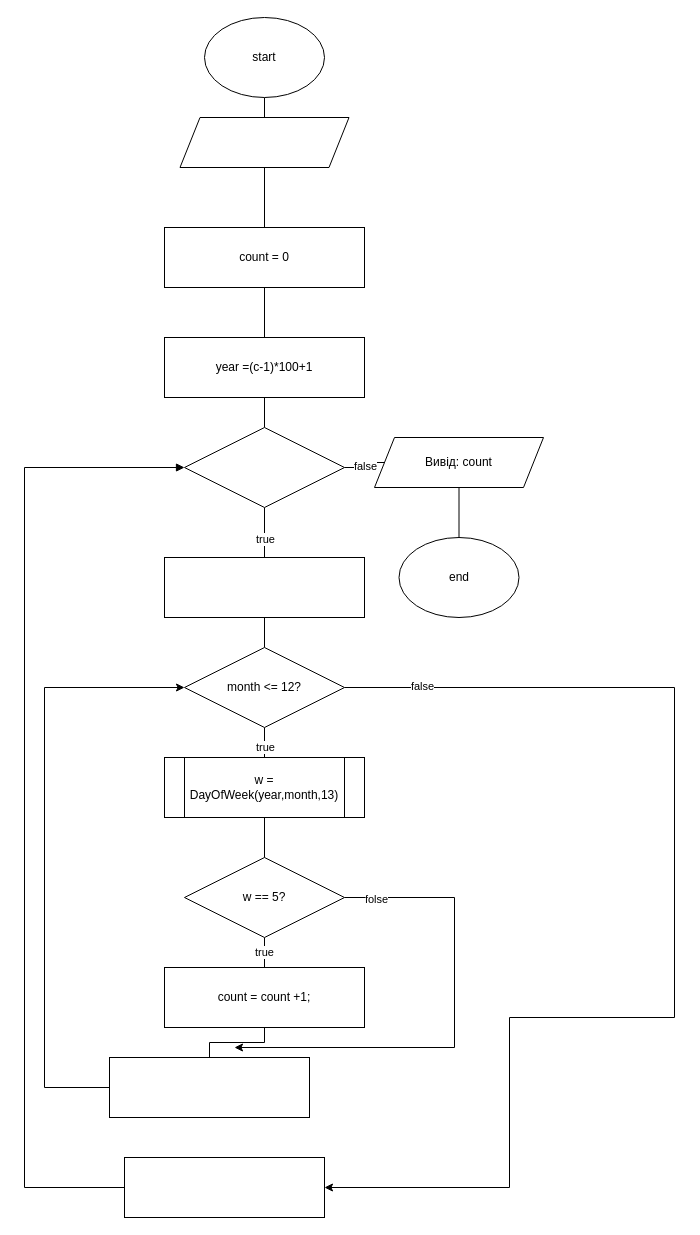
The diagram is 700 pixels wide and 1235 high, and some of its shapes have lost their labels. Here are the shapes that lost their labels. From the top down, the centre of each, then its label:
At point 264,142: "Ввід: c".
At point 264,467: "year<= c*100?".
At point 264,587: "month = 1".
At point 209,1087: "month = month + 1".
At point 224,1187: "year = year + 1".
